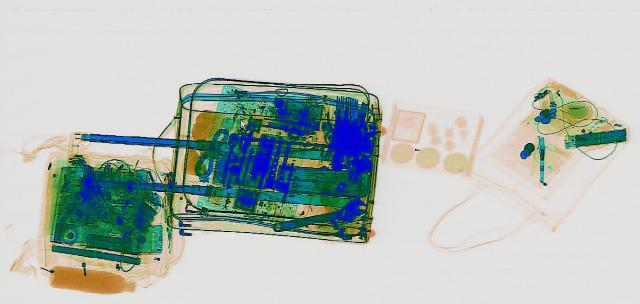Wrench: (256, 194, 382, 235)
